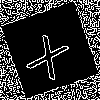X: (25, 25, 76, 81)
